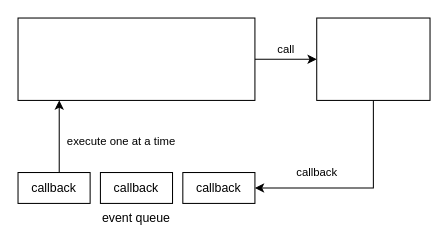
This 448x252 diagram has some shape labels left out. Each missing label, with the centre of its shape:
JavaScript Engine: [136,58]
JavaScript Environment: [373,58]
